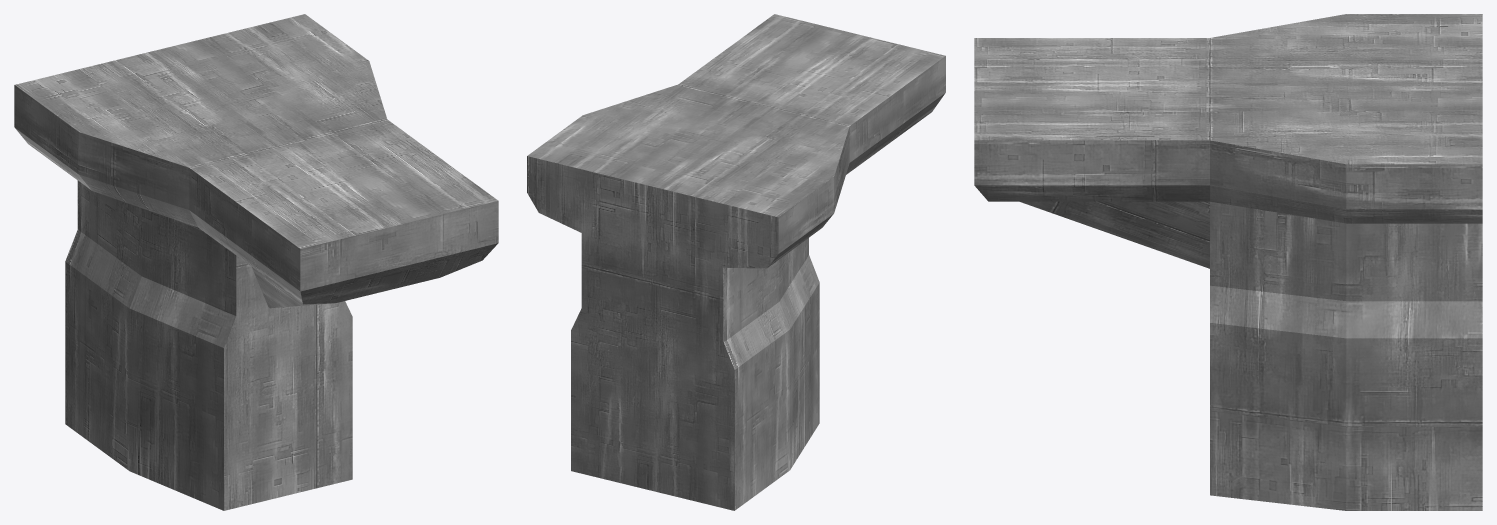
File: Bridge_01.fbx
3 views of the same model, side by side, from view 1: azimuth 30°, elevation 25°; view 2: azimuth 150°, elevation 25°; view 3: azimuth 270°, elevation 25° (orthographic). The views are drawn at different scales.
Visible parts, largest first — view 1: Bridge_01; view 2: Bridge_01; view 3: Bridge_01.
Part boxes in pixels (<box>): Bridge_01: <box>14,14,498,510</box>; Bridge_01: <box>527,14,945,510</box>; Bridge_01: <box>974,14,1482,510</box>.
Size of the model in its own units: 1470 by 1700 by 2100.
